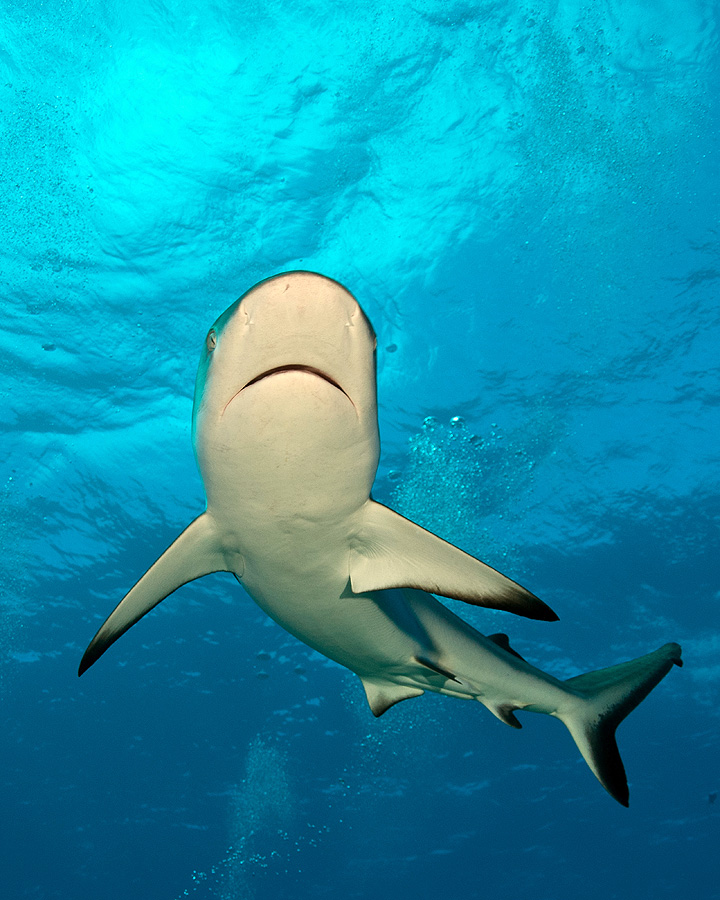Carcharhinus_amblyrhynchos: (65, 267, 694, 819)
